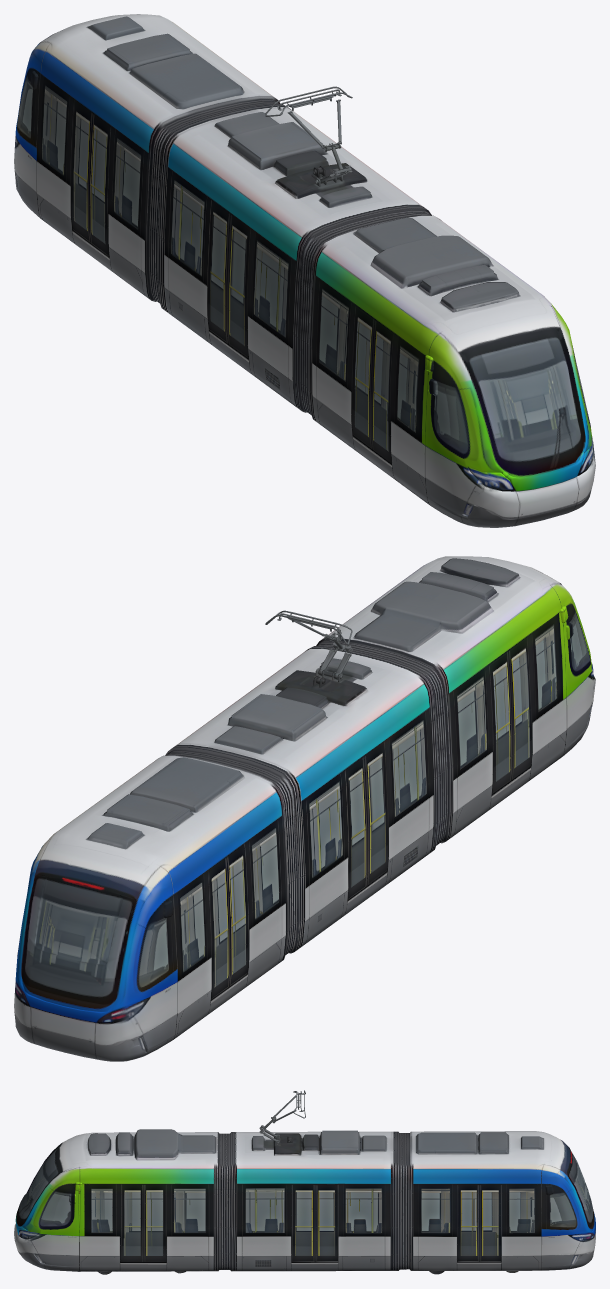
The model's file is tram.glb.
3 renders of one model, top to bottom at view 1: azimuth 30°, elevation 25°; view 2: azimuth 150°, elevation 25°; view 3: azimuth 270°, elevation 25°, orthographic. The views are drawn at different scales.
Parts seen in each view (by area): view 1: tripo_8703bfde_935a_44ad_9031_a41487da67ae; view 2: tripo_8703bfde_935a_44ad_9031_a41487da67ae; view 3: tripo_8703bfde_935a_44ad_9031_a41487da67ae.
Boxes of the visible parts, <box> form: tripo_8703bfde_935a_44ad_9031_a41487da67ae: <box>14,14,595,527</box>; tripo_8703bfde_935a_44ad_9031_a41487da67ae: <box>14,556,595,1061</box>; tripo_8703bfde_935a_44ad_9031_a41487da67ae: <box>14,1090,595,1274</box>.
Bounding box in the file's own units: 0.1675 × 0.3052 × 0.9995.
1 material, 1 textured.
